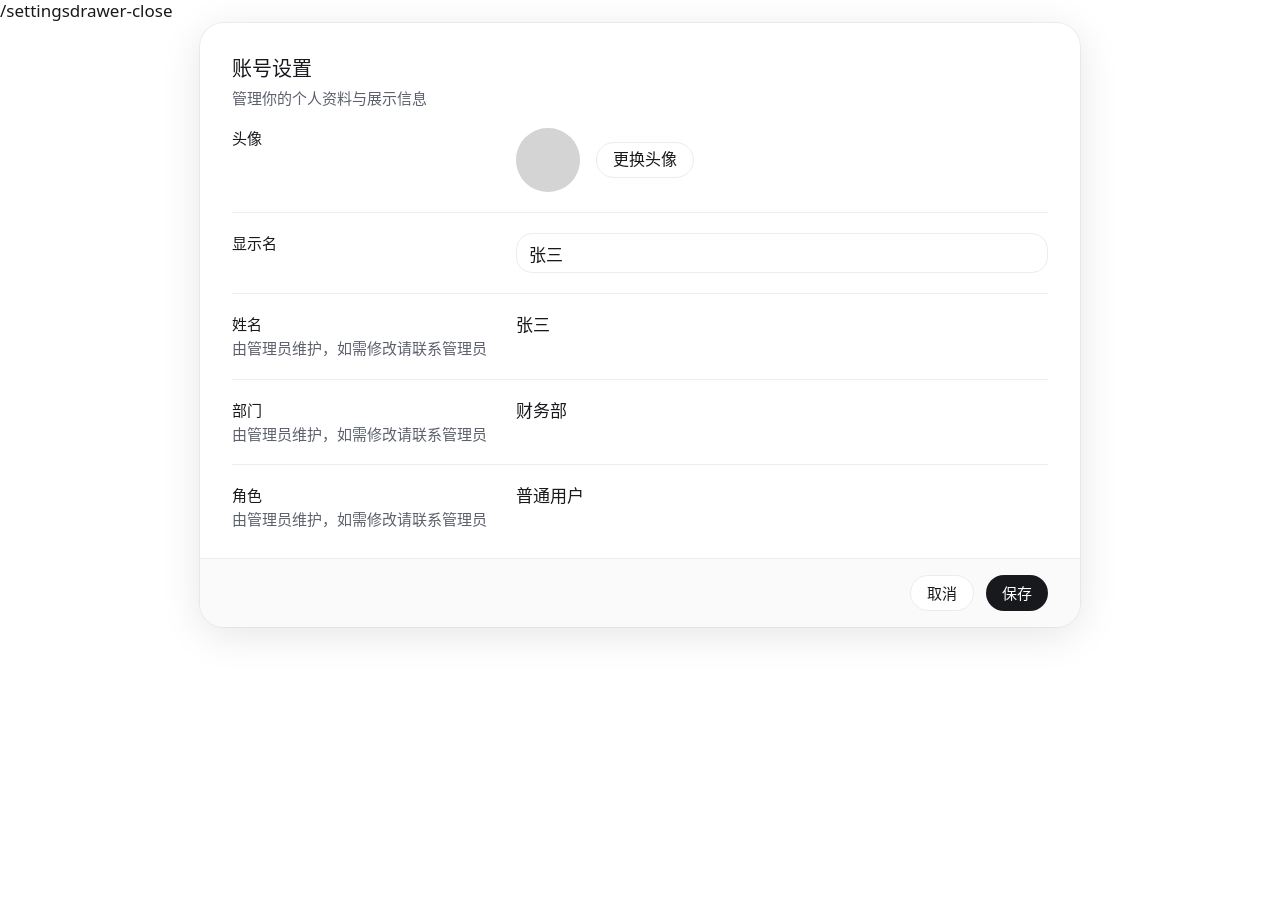
Test: ProfileModule 关闭拦截与头像（A39） › 确认放弃：回退显示名并关闭抽屉（导航到根路径）
Replace the text in the field labelled "显示名" with "未保存名字" at (782,253), box [516,233,1048,273]
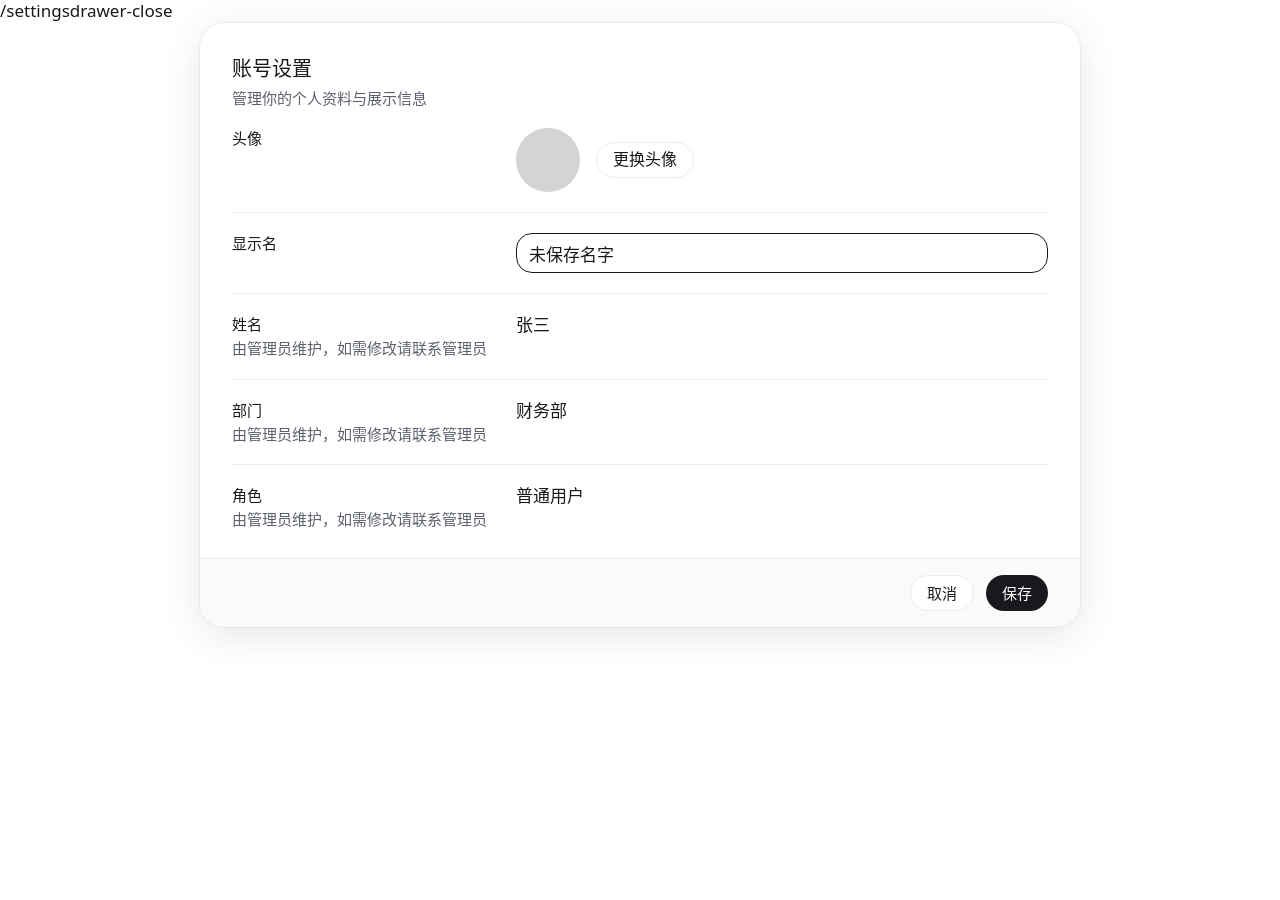
Press Escape
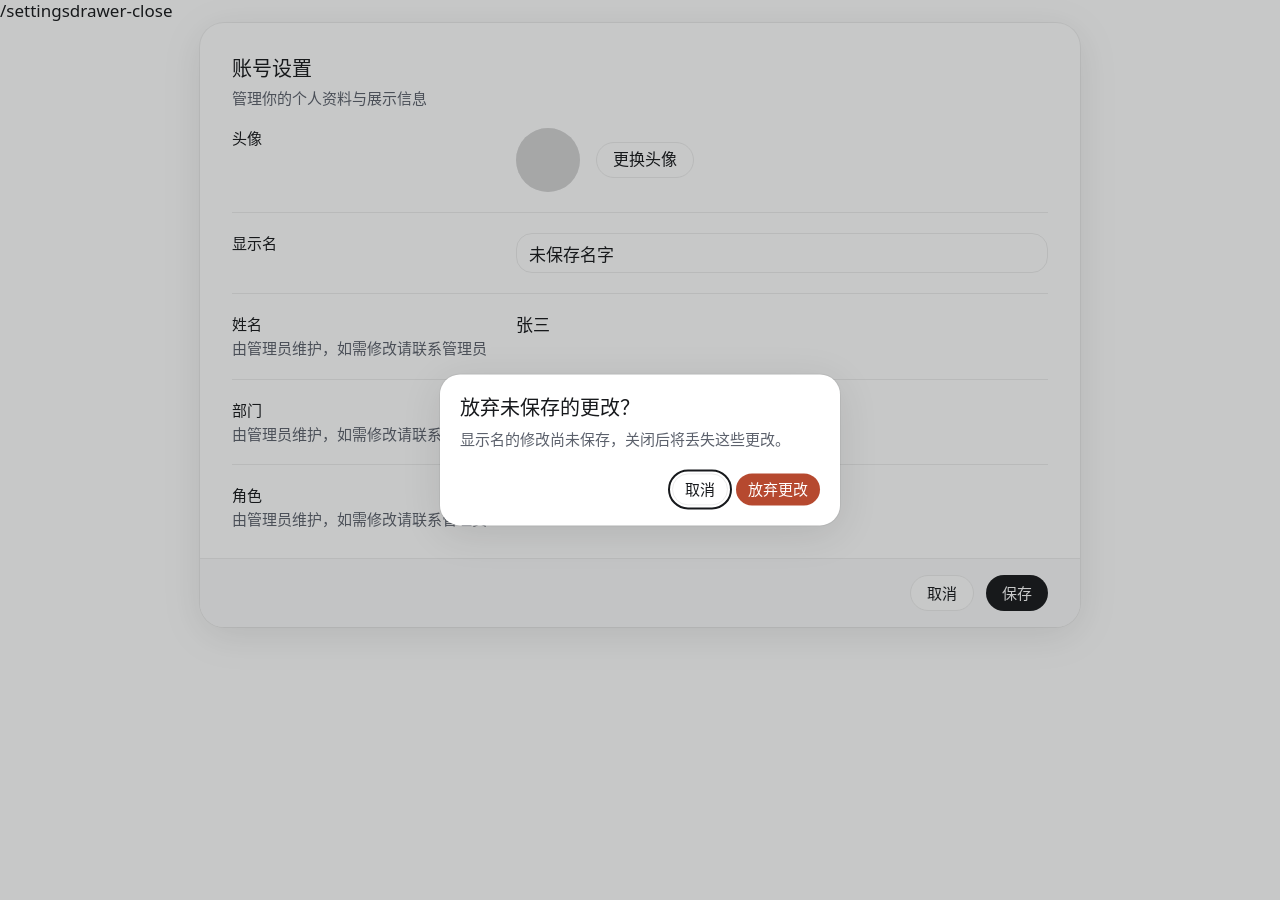
Check: the dialog "放弃未保存的更改？" is shown, box [440,374,840,526]
Click the button "放弃更改" at (778,490), box [736,474,820,506]
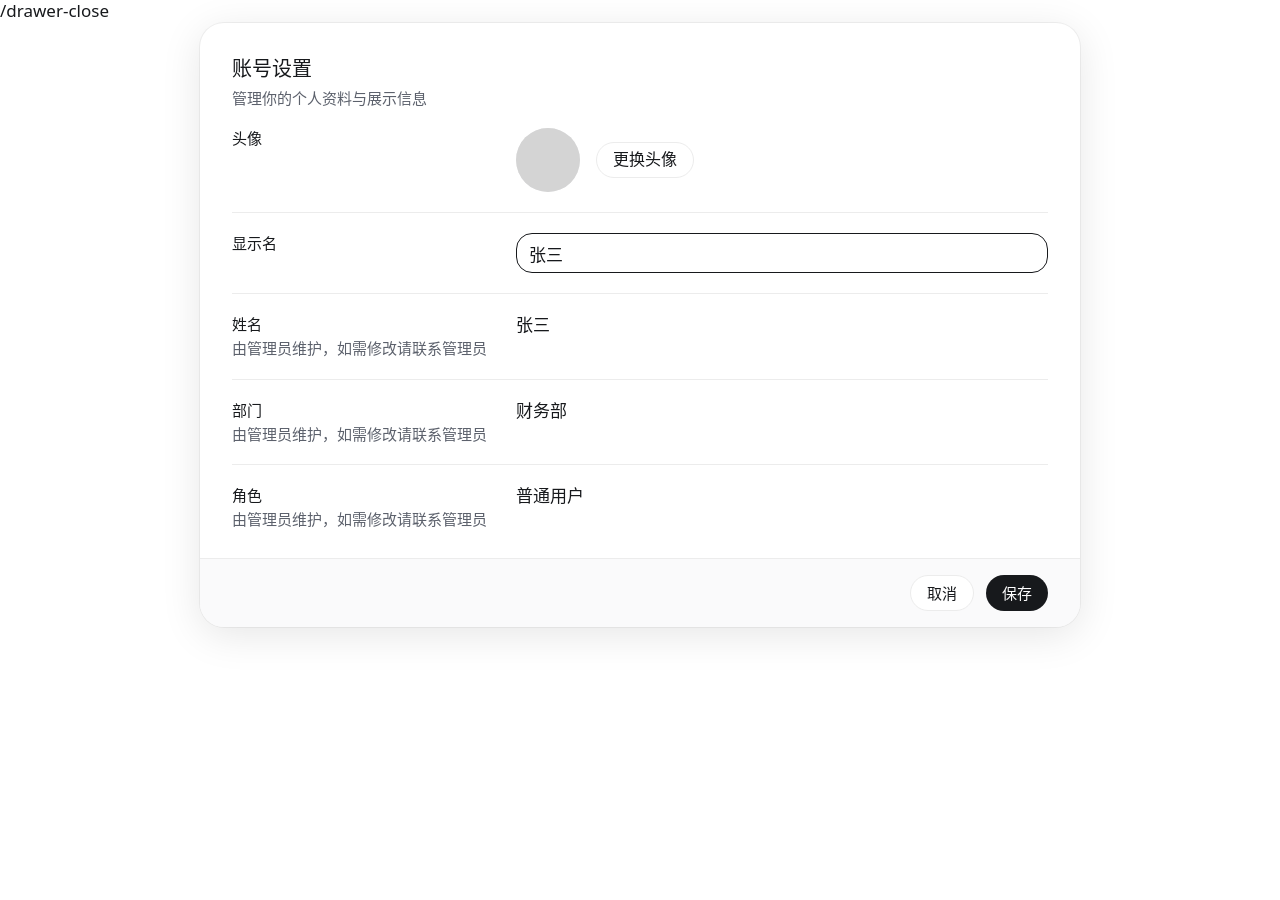
Check: the dialog is gone
Check: the field labelled "显示名" holds "张三", box [516,233,1048,273]
Check: the text with test id "profile-location" reads "/", box [0,0,6,22]
